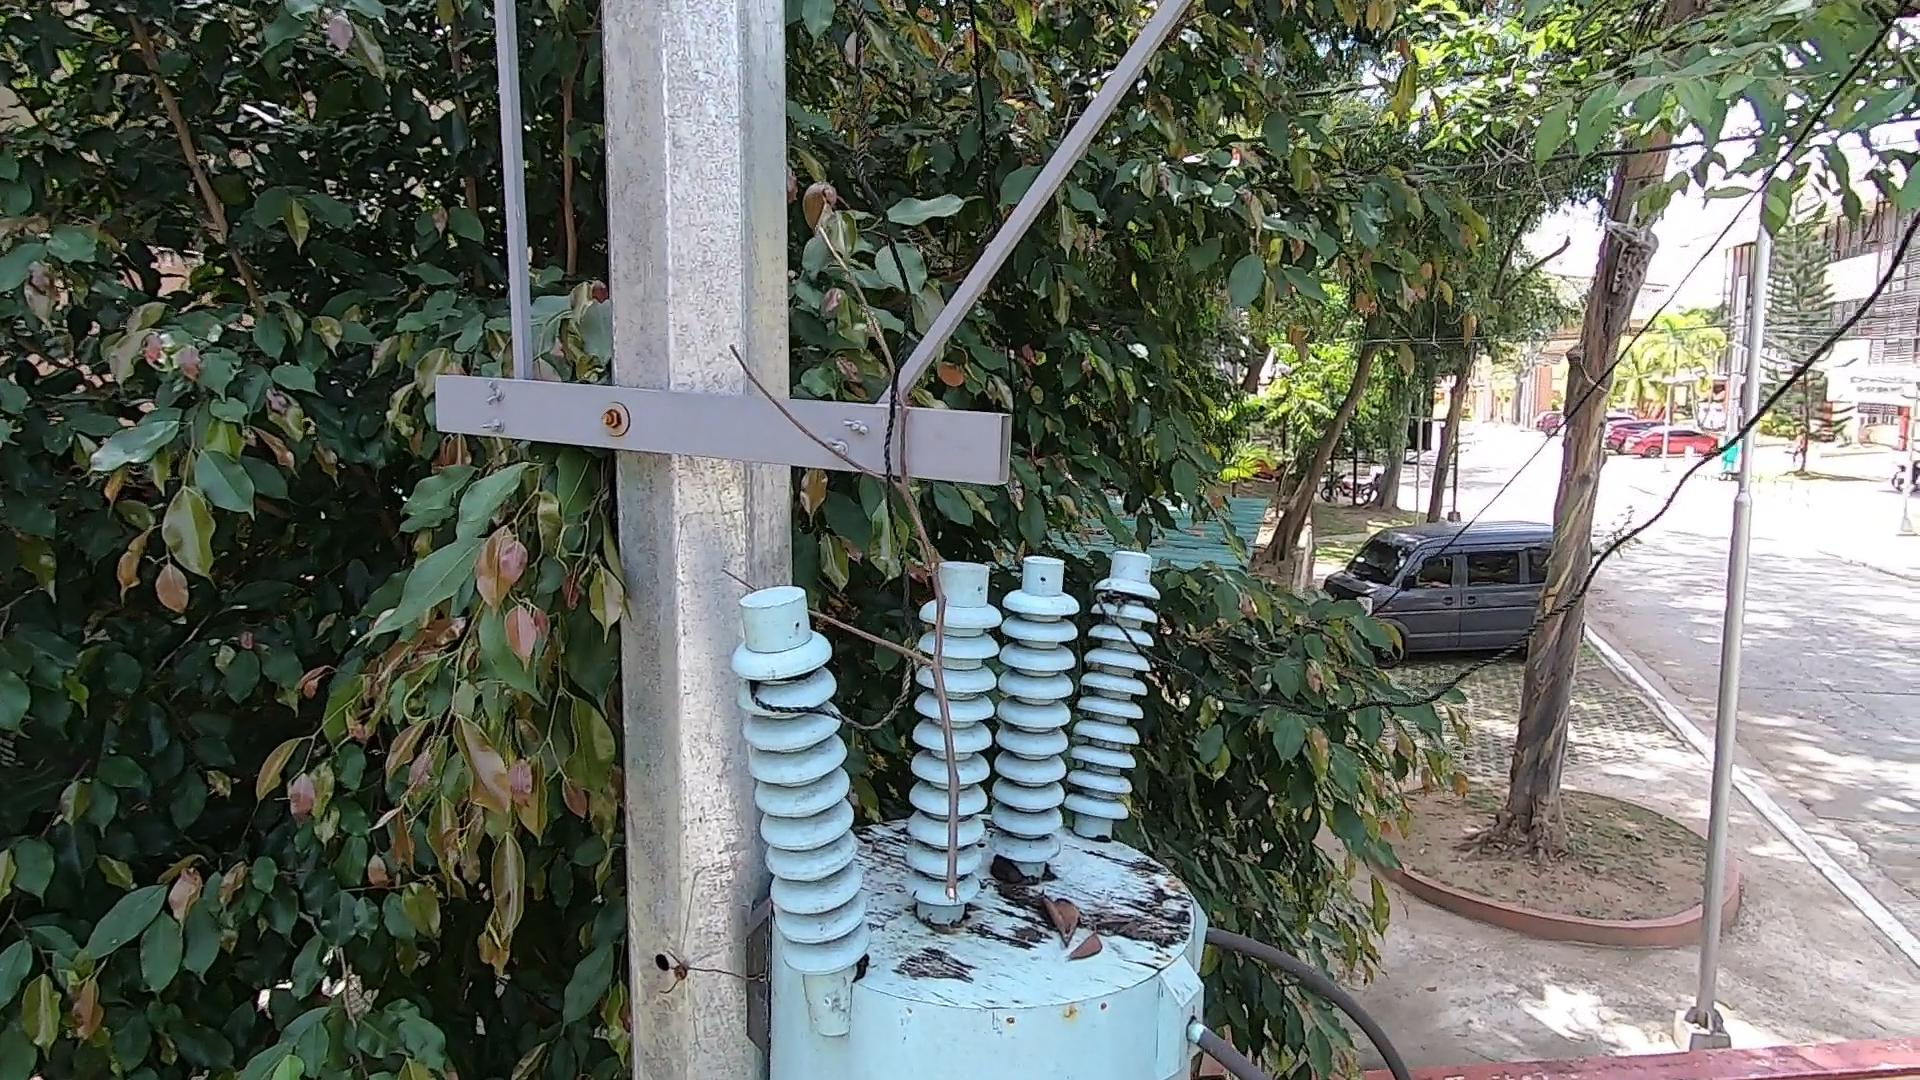leaf: (990, 858, 1101, 960)
tree branch: (720, 203, 990, 898)
